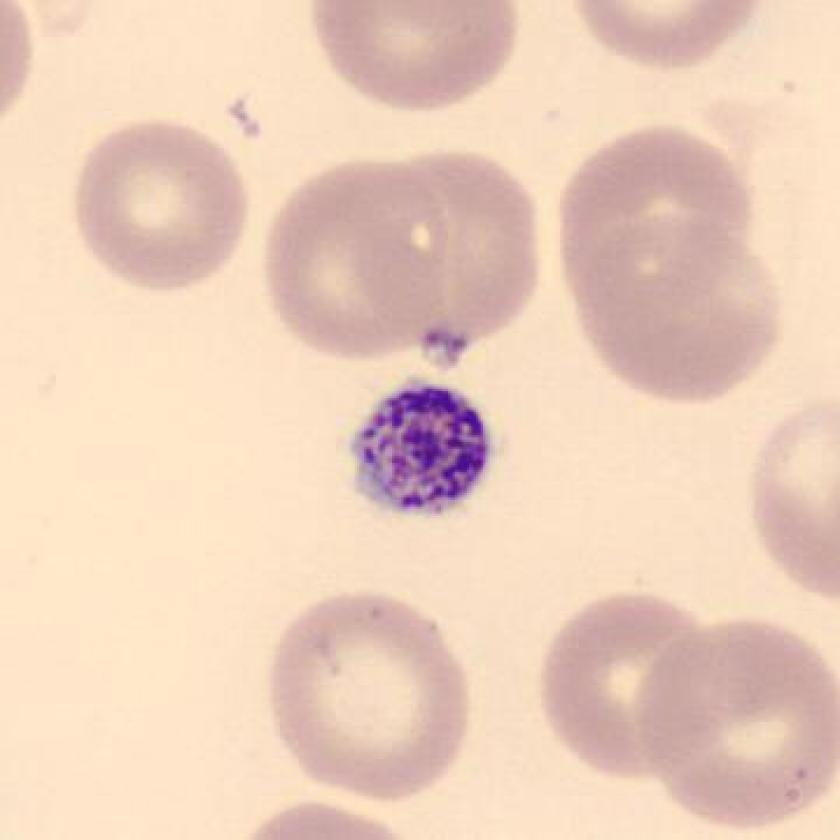platelets: (344, 378, 503, 526), (421, 325, 475, 380)
